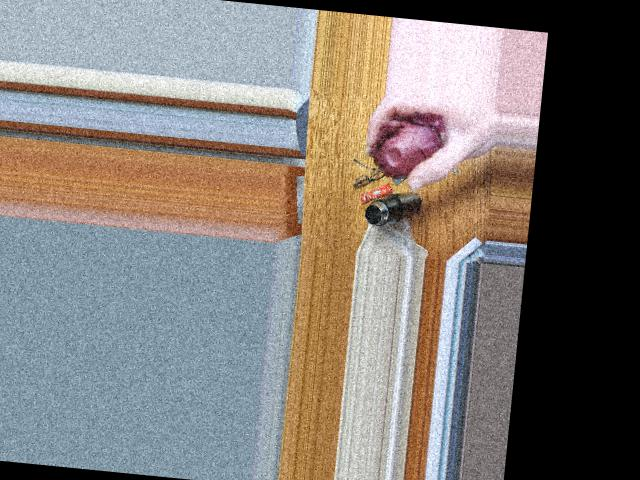onion: (372, 114, 451, 180)
